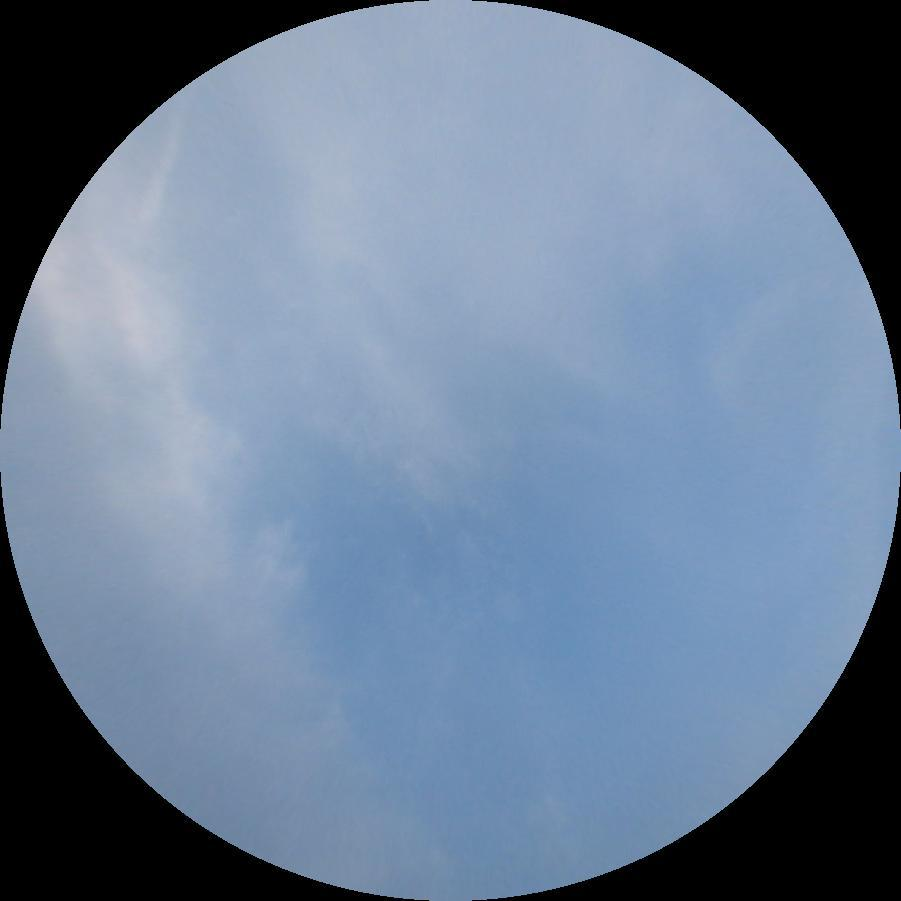contrail veryold: (123, 96, 193, 267)
